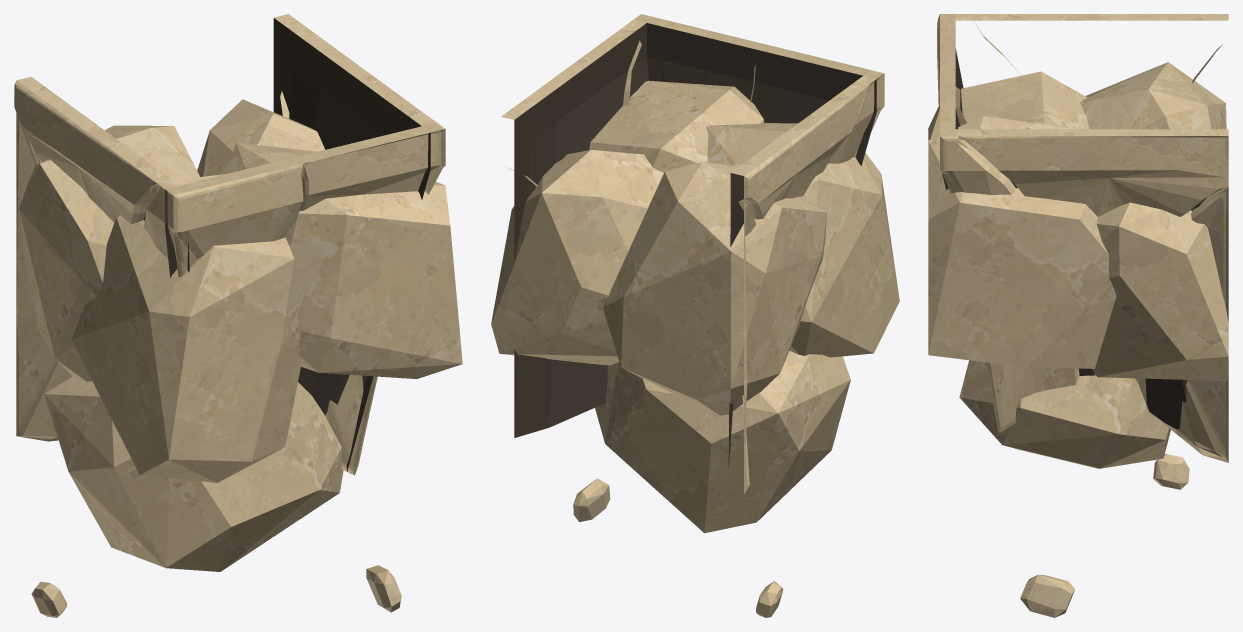
Rendered from ground_bottom_end_02.glb.
3 renders of one model, left to right at view 1: azimuth 30°, elevation 25°; view 2: azimuth 150°, elevation 25°; view 3: azimuth 270°, elevation 25°, orthographic. The views are drawn at different scales.
Parts seen in each view (by area): view 1: GroundBottomEnd02_Body; view 2: GroundBottomEnd02_Body; view 3: GroundBottomEnd02_Body.
Part boxes in pixels (x1,y1,x2,y2): GroundBottomEnd02_Body: [14, 14, 462, 617]; GroundBottomEnd02_Body: [491, 14, 899, 617]; GroundBottomEnd02_Body: [928, 14, 1228, 617].
Bounding box in the file's own units: 1.08 × 1.83 × 1.04.
11 materials, 10 textured.
